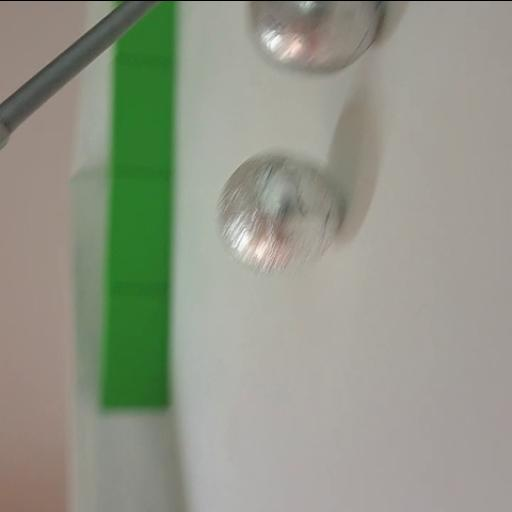alive: (214, 149, 344, 275), (242, 1, 386, 79)
